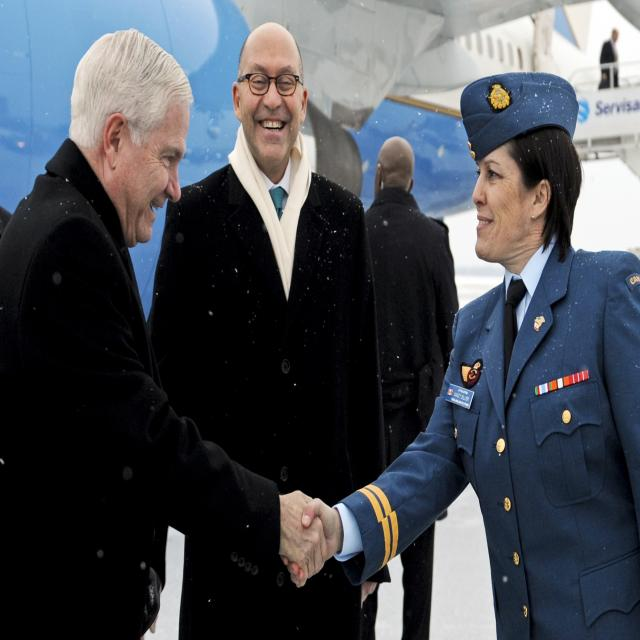body: (0, 20, 337, 640), (293, 67, 639, 640), (137, 8, 398, 640), (357, 132, 460, 640), (588, 25, 628, 94), (1, 205, 15, 241)
